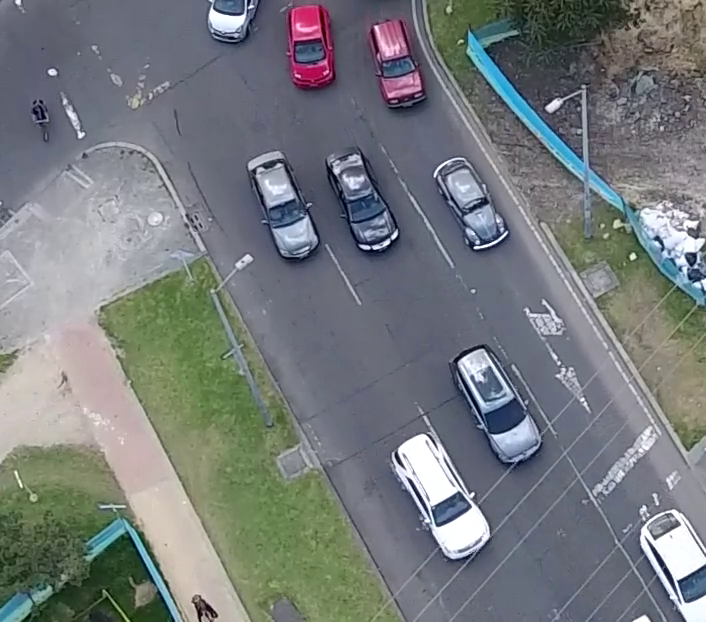car: (388, 429, 495, 561), (448, 342, 542, 469), (244, 148, 320, 264), (323, 145, 401, 257), (430, 152, 512, 257), (366, 13, 427, 111), (282, 2, 339, 94)
